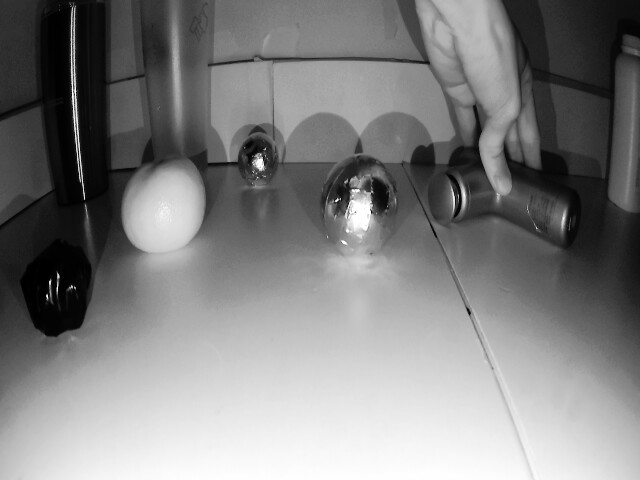black: (20, 246, 86, 331)
silver: (326, 157, 401, 262), (238, 129, 281, 187)
